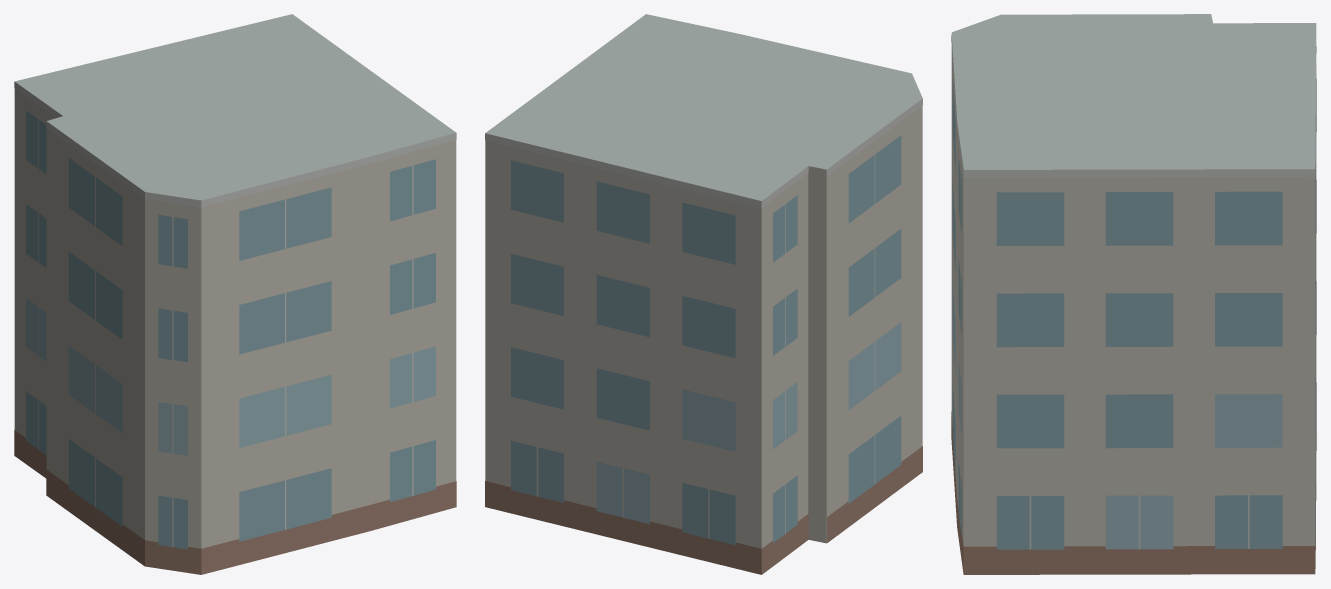
File: survey-upis-32616238.glb
3 views of the same model, side by side, from view 1: azimuth 30°, elevation 25°; view 2: azimuth 150°, elevation 25°; view 3: azimuth 270°, elevation 25° (orthographic). The views are drawn at different scales.
Visible parts, largest first — view 1: survey-upis-32616238.tmp; view 2: survey-upis-32616238.tmp; view 3: survey-upis-32616238.tmp.
Part boxes in pixels (x1,y1,x2,y2): survey-upis-32616238.tmp: (14, 14, 456, 574); survey-upis-32616238.tmp: (485, 14, 922, 574); survey-upis-32616238.tmp: (951, 14, 1316, 574).
Size of the model in its own units: 10.75 by 13 by 10.63.
